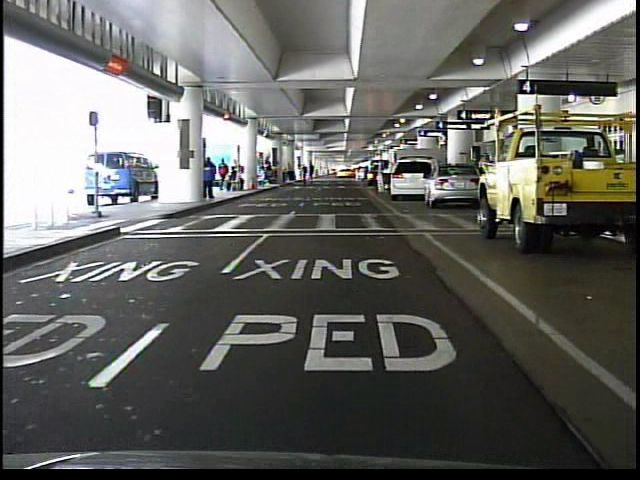person: (200, 154, 219, 203)
